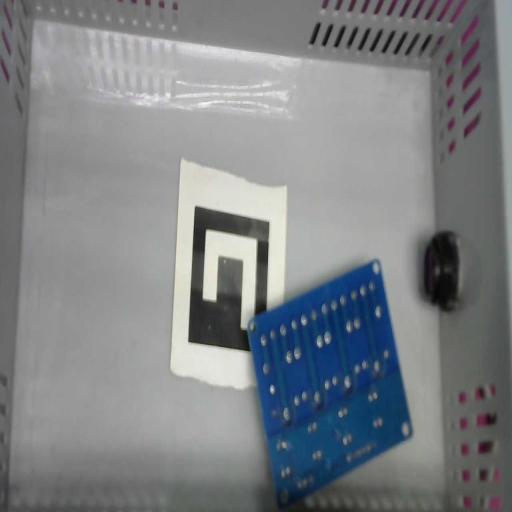QR: (187, 203, 269, 352)
relay_module: (247, 258, 413, 509)
